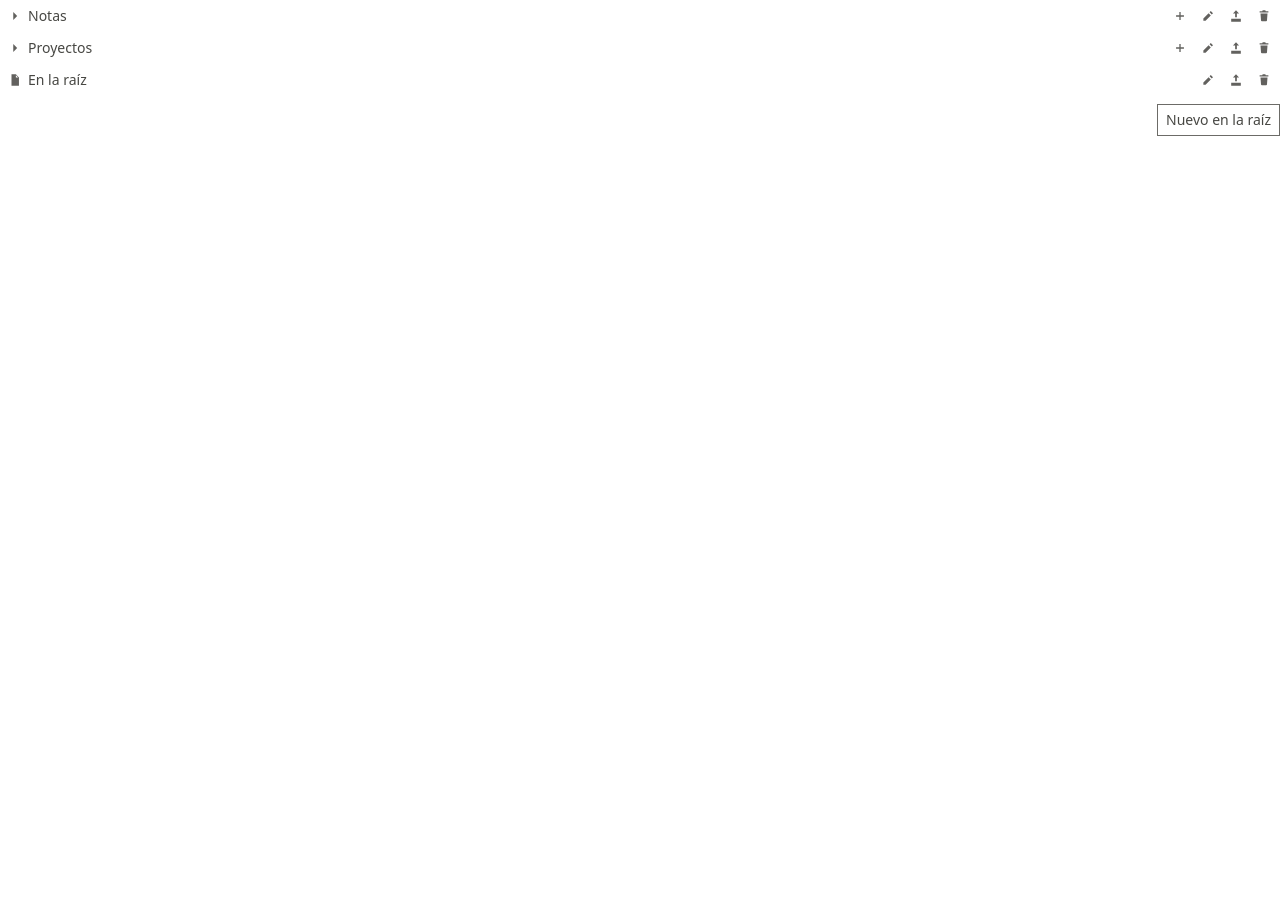
Test case: MoveNodeDialog — mover (AC-30) › mueve el directorio al destino elegido
This screenshot has width=1280, height=900.
Click the button named "Mover «Notas»" at (1236, 16), box left=1224, top=4, right=1248, bottom=28
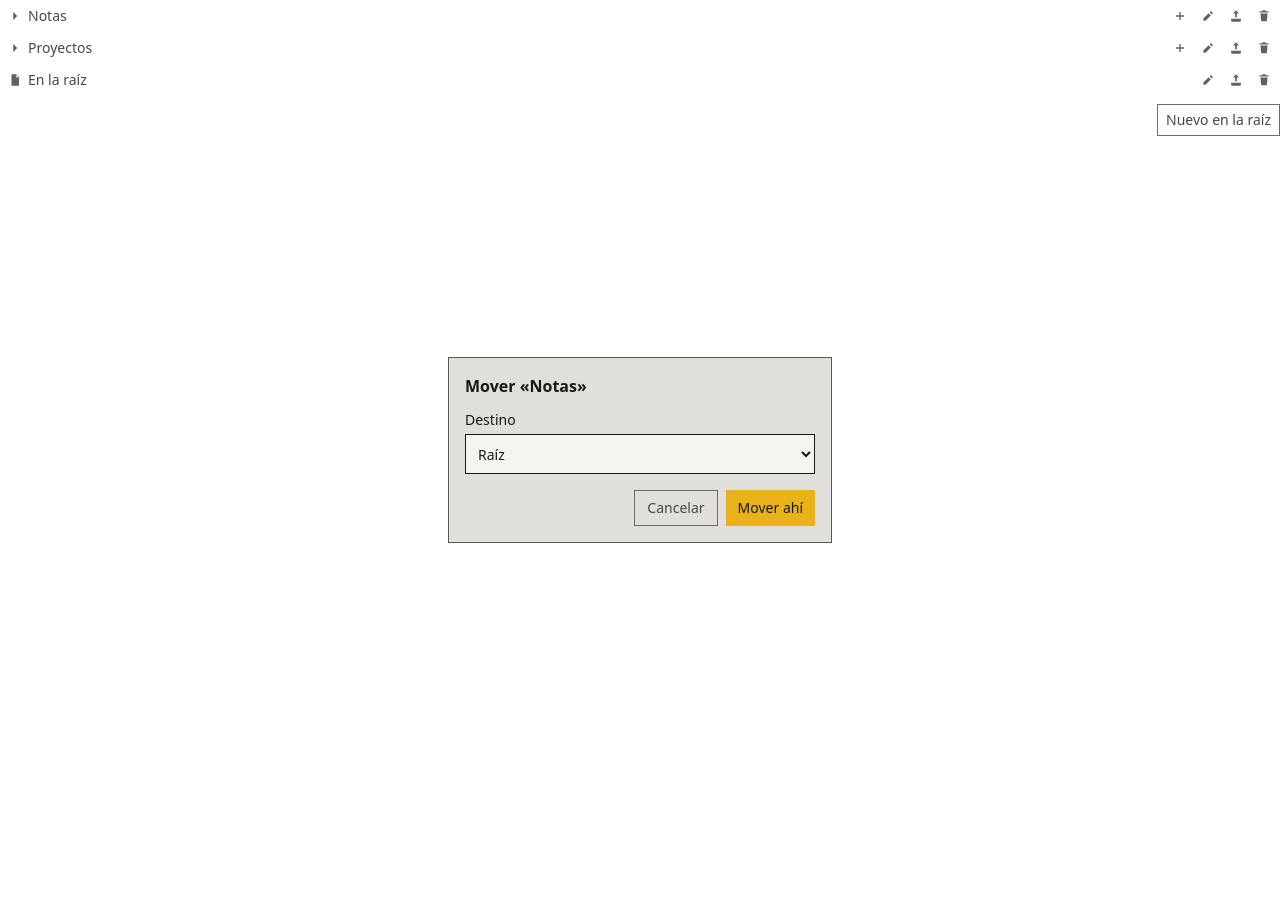
Select "Proyectos" in the dropdown labelled "Destino" at (640, 454), box left=465, top=434, right=815, bottom=474
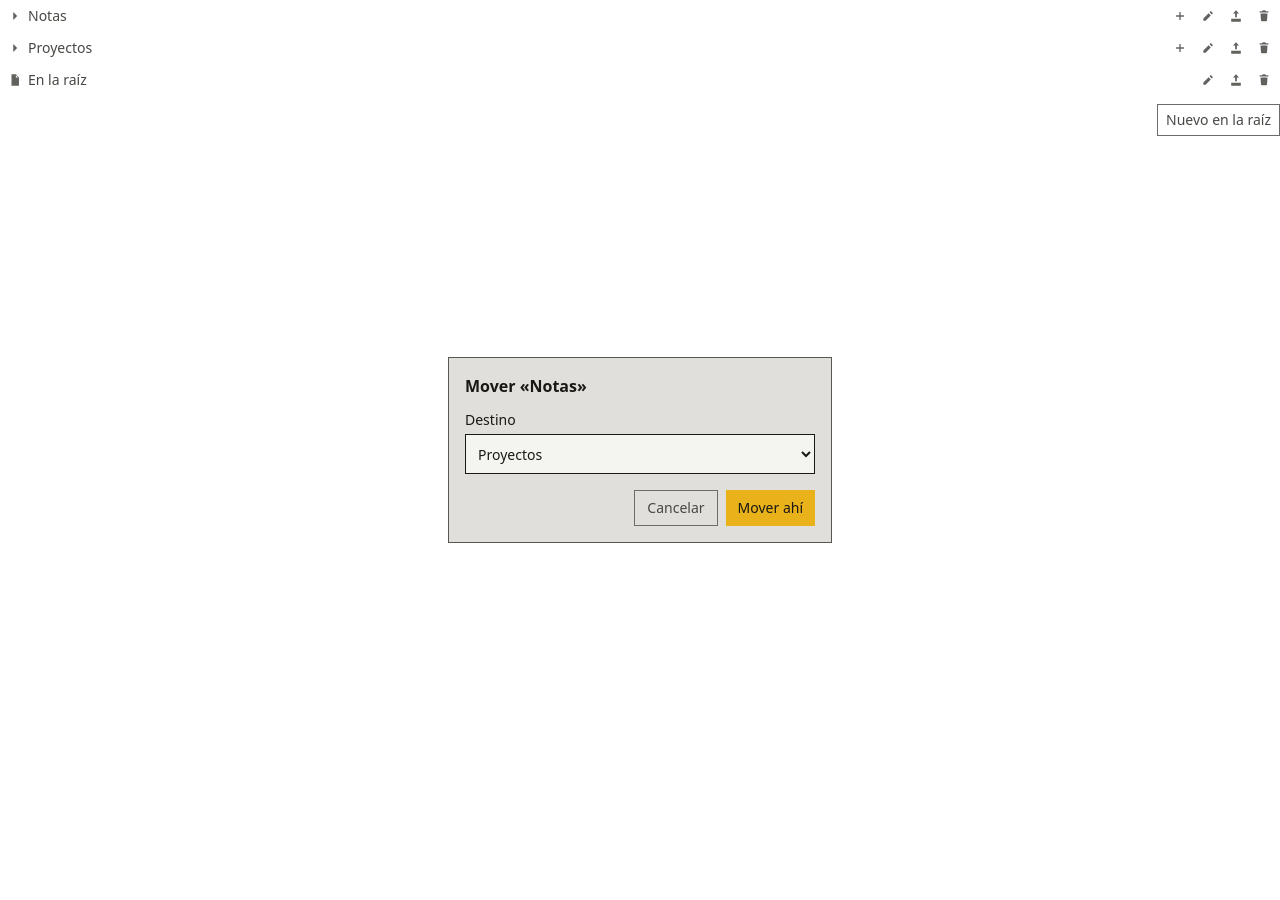
Click the button "Mover ahí" at (770, 508), box left=726, top=490, right=815, bottom=526
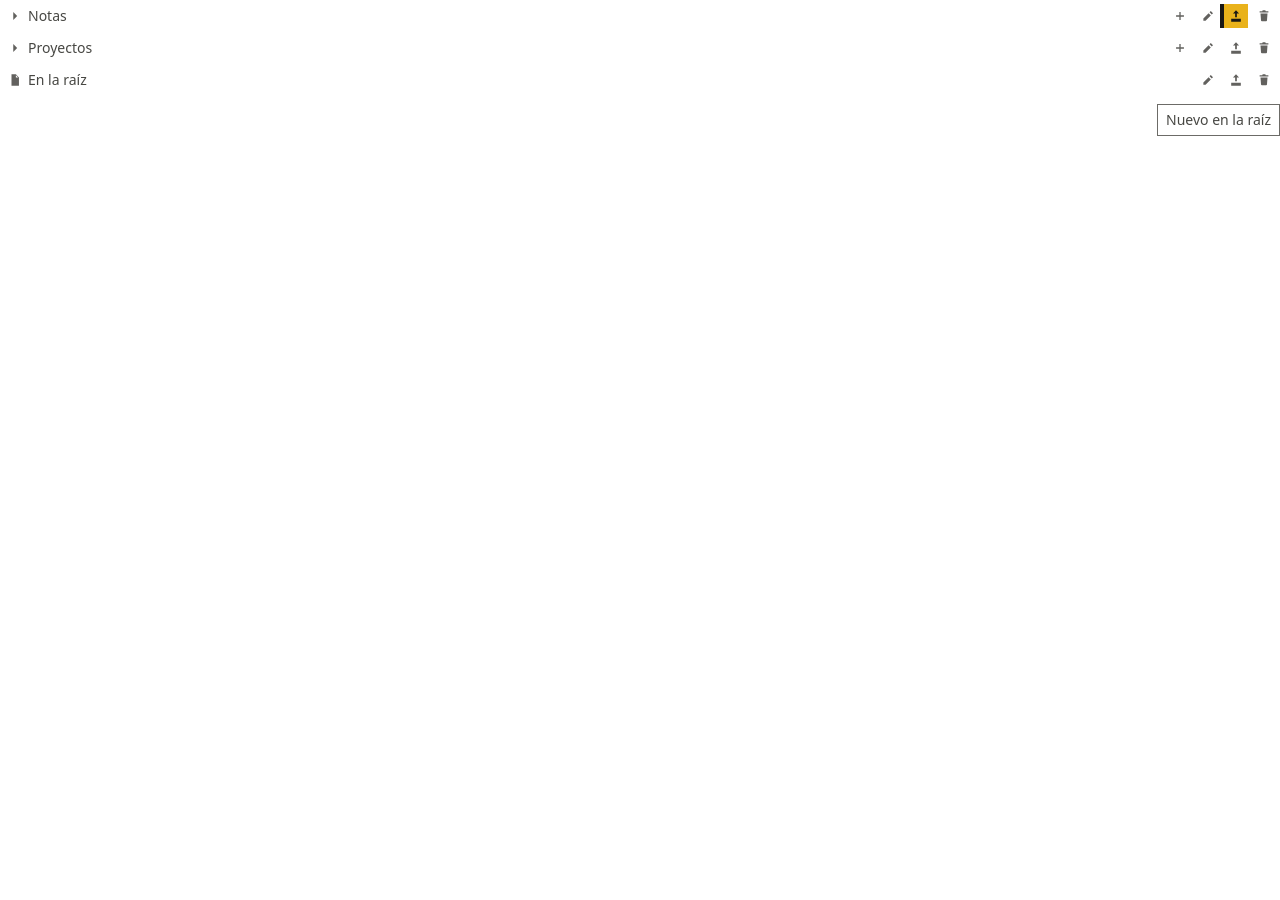
Expected: the dialog is gone
